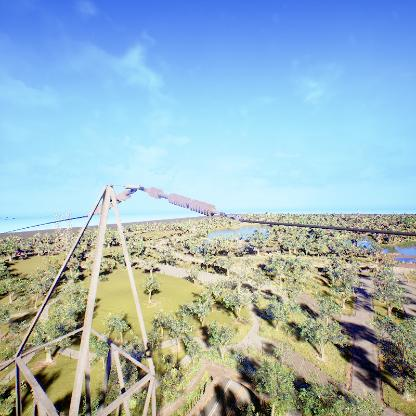insulator: (146, 186, 217, 217)
